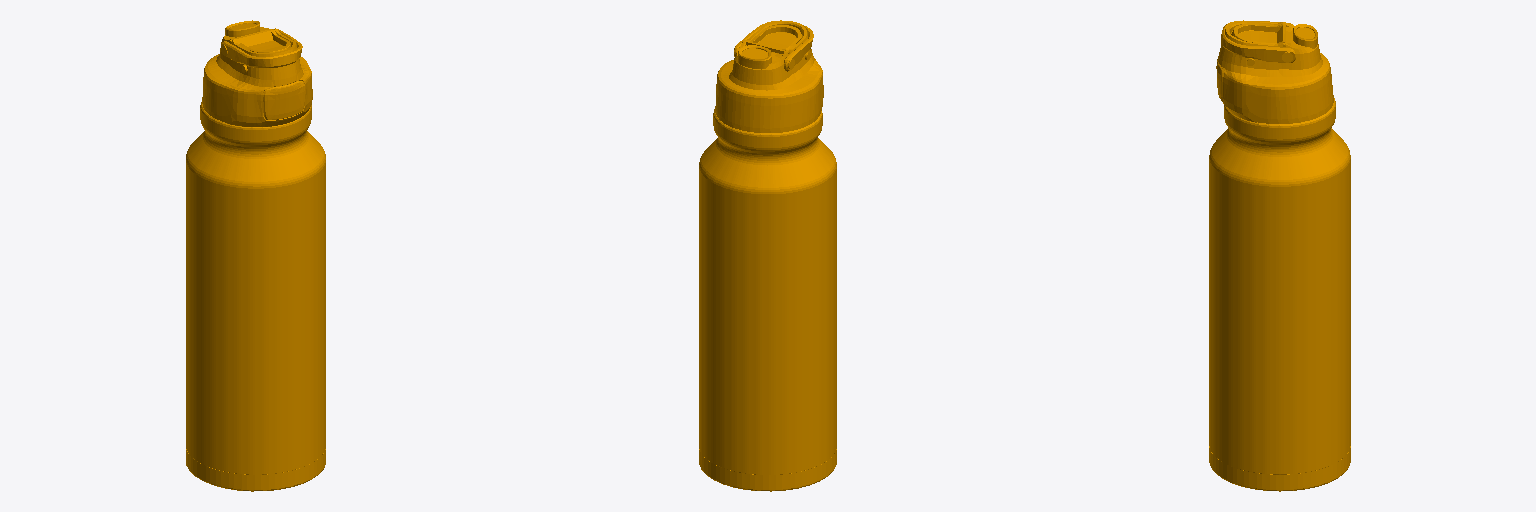
URDF robot description (mesh_object):
<?xml version="1.0" ?>
<robot name="mesh_object">
  <link name="base">
    <visual>
      <geometry>
        <mesh filename="thermos_bottle_4.obj" scale="1 1 1"/>
      </geometry>
    </visual>
    <collision>
      <geometry>
        <mesh filename="thermos_bottle_4.obj" scale="1 1 1"/>
      </geometry>
    </collision>
    <inertial>
      <origin xyz="0.000120 0.002358 0.139440" rpy="0 0 0"/>
      <mass value="0.5"/>
      <inertia ixx="0.01" iyy="0.01" izz="0.01" ixy="0" ixz="0" iyz="0"/>
    </inertial>
  </link>
</robot>

--- Facts derived from the render (not from the file) ---
Views: 3 orthographic renders of the robot side by side, from view 1: azimuth 30°, elevation 25°; view 2: azimuth 150°, elevation 25°; view 3: azimuth 270°, elevation 25°.
Model mesh_object with 1 links and 0 joints (none), rooted at base, posed every joint at zero.
Links seen in each view (by area): view 1: base; view 2: base; view 3: base.
Link boxes in pixels (left/top/right/bottom): base: left=186, top=20, right=325, bottom=491; base: left=699, top=20, right=836, bottom=491; base: left=1209, top=20, right=1350, bottom=491.
Bounding box of the posed robot: 0.0824 × 0.0824 × 0.2789 m (x, y, z).
1 mesh visuals loaded from 1 distinct referenced files (1 OBJ).
